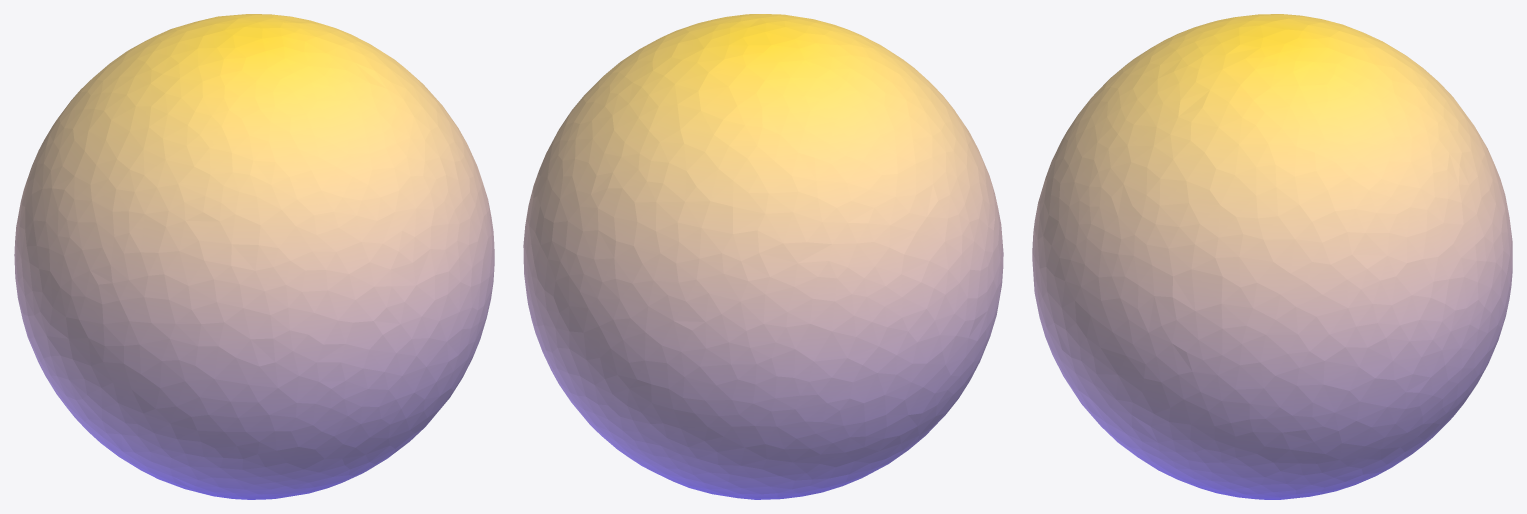
The model's file is 9_cyb_laser_gradient_fish_scales_2788_2026_10_03_400a82.glb.
3 views of the same model, side by side, from view 1: azimuth 30°, elevation 25°; view 2: azimuth 150°, elevation 25°; view 3: azimuth 270°, elevation 25° (orthographic).
Parts seen in each view (by area): view 1: geometry_0; view 2: geometry_0; view 3: geometry_0.
Part boxes in pixels (left/top/right/bottom): geometry_0: left=14, top=14, right=494, bottom=499; geometry_0: left=523, top=14, right=1003, bottom=499; geometry_0: left=1032, top=14, right=1512, bottom=499.
Bounding box in the file's own units: 0.9879 × 1 × 0.9882.
